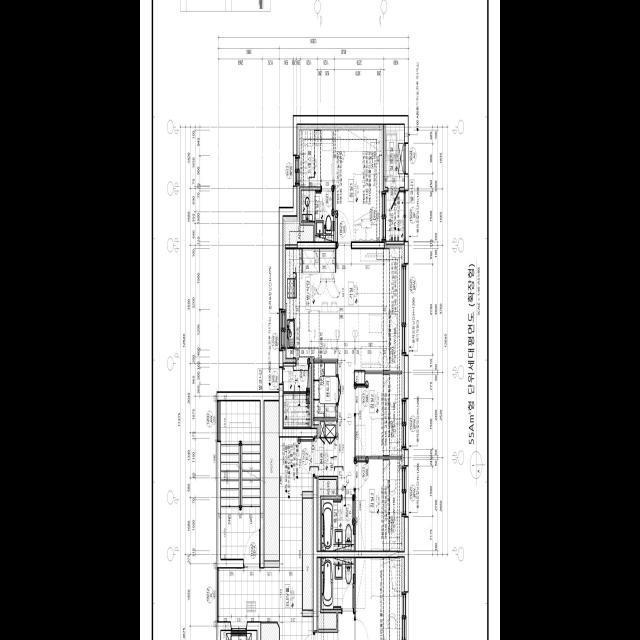background: (140, 0, 500, 640)
space_balconi: (283, 366, 310, 427)
space_bedroom: (321, 129, 381, 241), (356, 459, 402, 550), (356, 374, 402, 455)
space_dressroom: (300, 129, 321, 186)
space_elevator_hall: (220, 437, 313, 640)
space_front: (315, 421, 338, 475)
space_kitchen: (286, 249, 338, 357)
space_living_room: (338, 248, 402, 495)
space_other: (264, 401, 279, 560), (314, 360, 337, 417), (303, 498, 313, 609), (285, 221, 313, 244), (261, 623, 279, 640), (355, 371, 364, 383)
space_outdoor_room: (385, 124, 404, 240)
space_staircase: (221, 401, 260, 558)
space_toilet: (301, 190, 333, 241), (322, 499, 354, 550)
